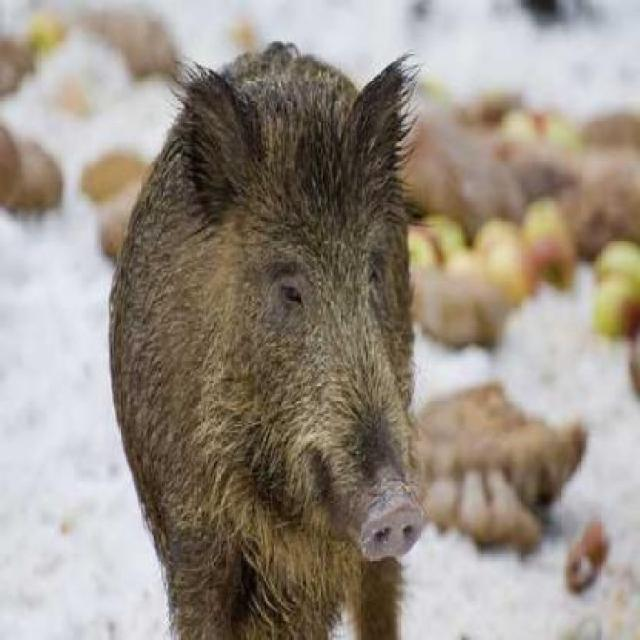pig: (108, 20, 434, 638)
